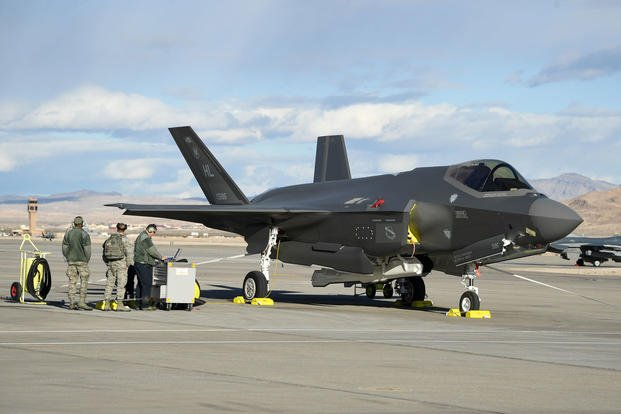F-35 Lightning: (98, 106, 594, 329)
